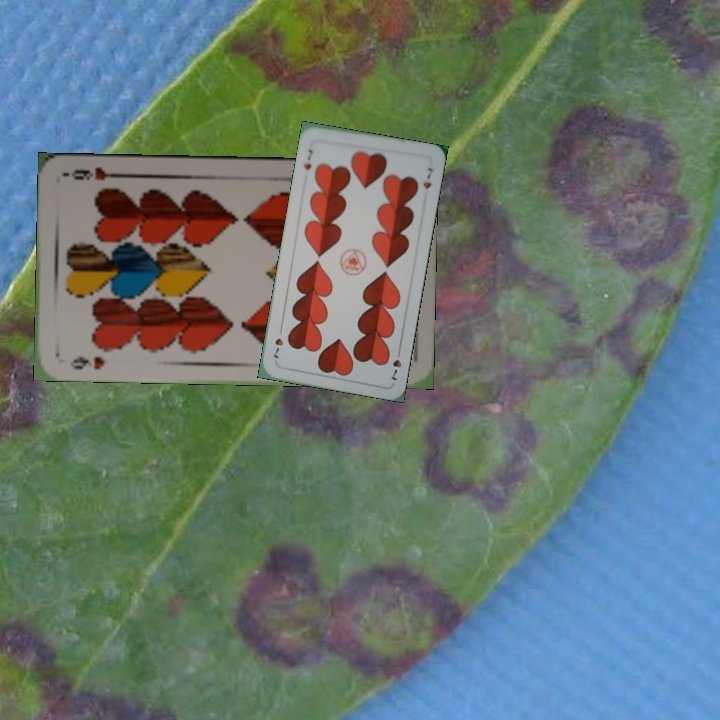H7: (388, 344, 404, 383), (300, 145, 315, 172)
H9: (65, 352, 108, 373)
